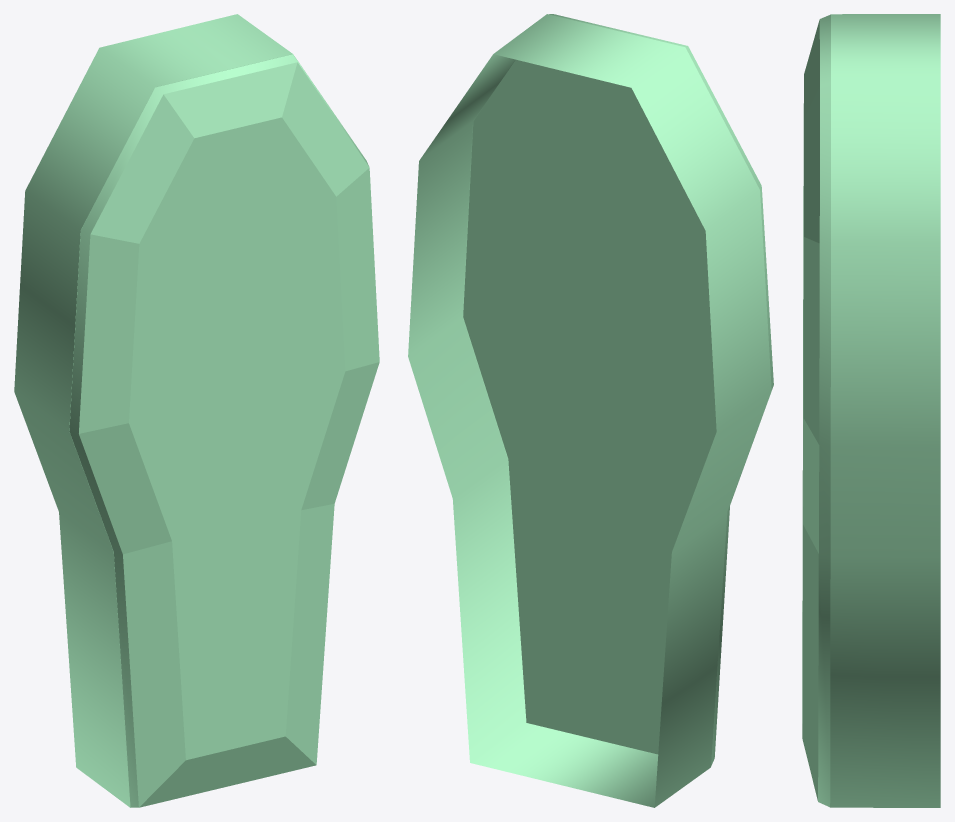
The picture shows the model from 3 angles, left to right: view 1: azimuth 30°, elevation 25°; view 2: azimuth 150°, elevation 25°; view 3: azimuth 270°, elevation 25°; orthographic projection.
Parts seen in each view (by area): view 1: Object55; view 2: Object55; view 3: Object55.
Boxes of the visible parts, x1=… form: Object55: x1=14, y1=14, x2=379, y2=807; Object55: x1=408, y1=14, x2=773, y2=807; Object55: x1=802, y1=14, x2=940, y2=807.
Size of the model in its own units: 9728 by 21535 by 3776.
